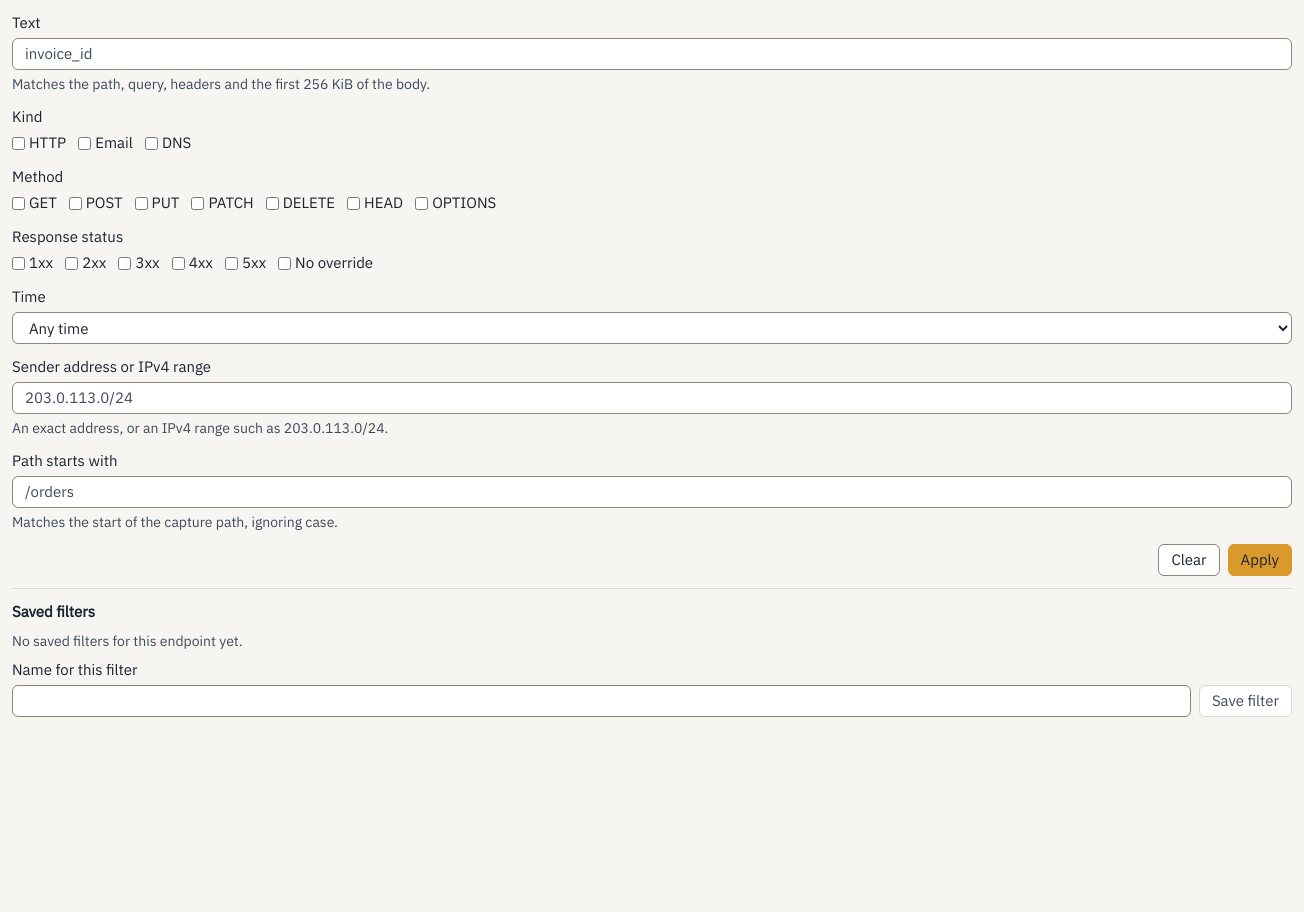
Test: BuilderForm › saves the current filter under its name and lists it for this endpoint only
The width and height of the screenshot is (1304, 912).
Click the checkbox labelled "GET" at [18, 203], box [12,196,25,210]
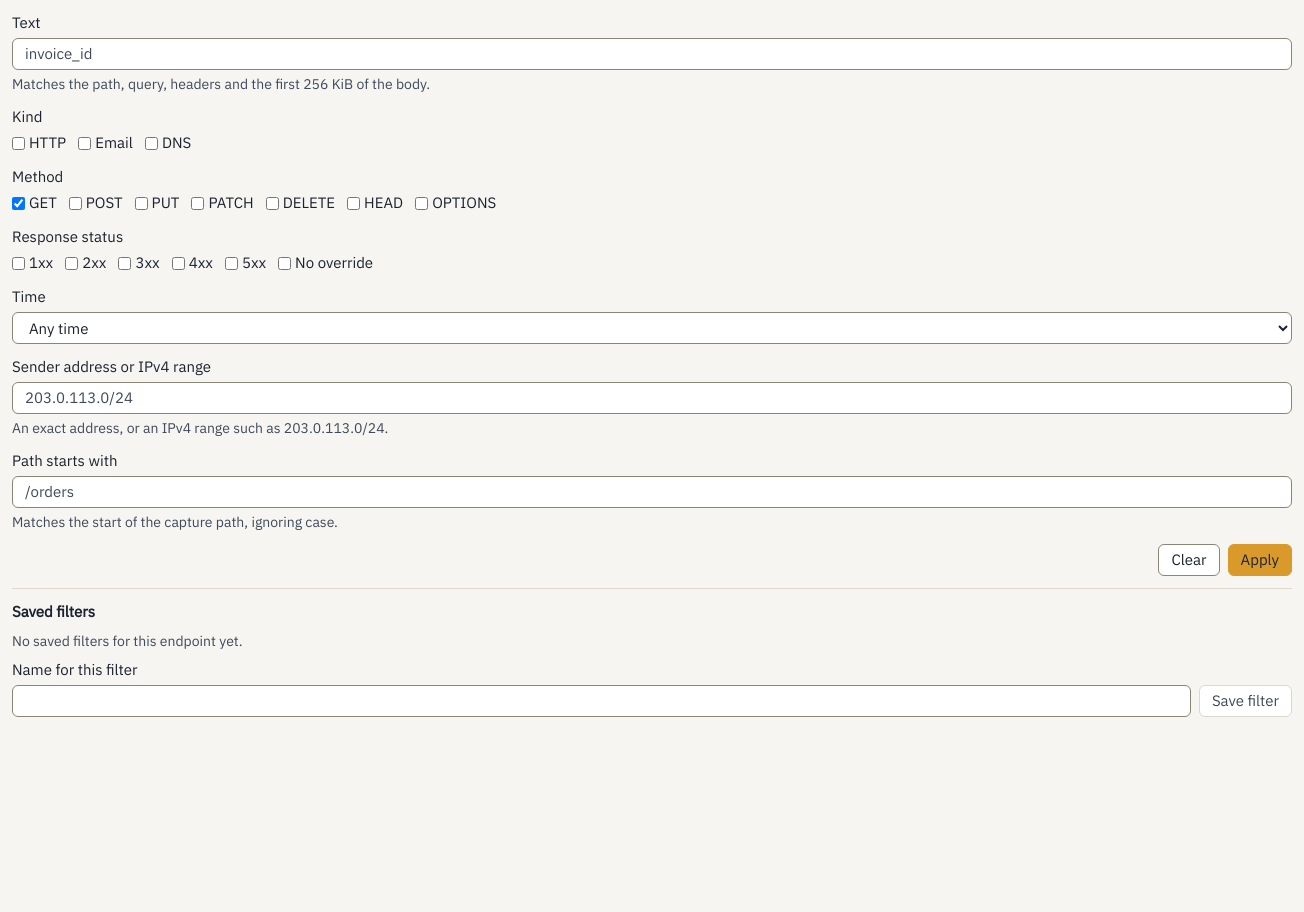
Type "Failed GETs" into the field labelled "Name for this filter" at [601, 701], box [12,685,1191,717]
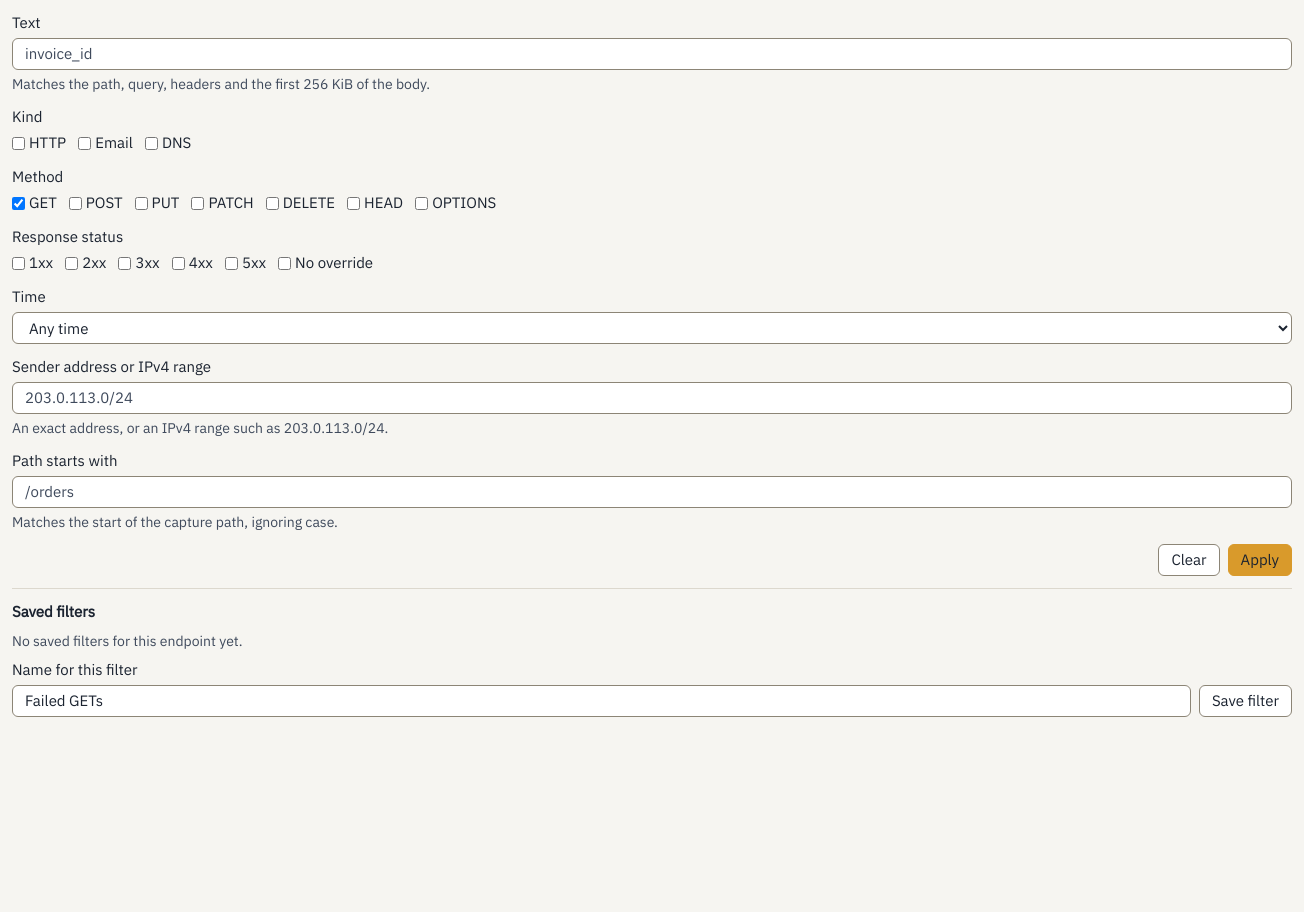
Click the button "Save filter" at [1245, 701], box [1199,685,1292,717]
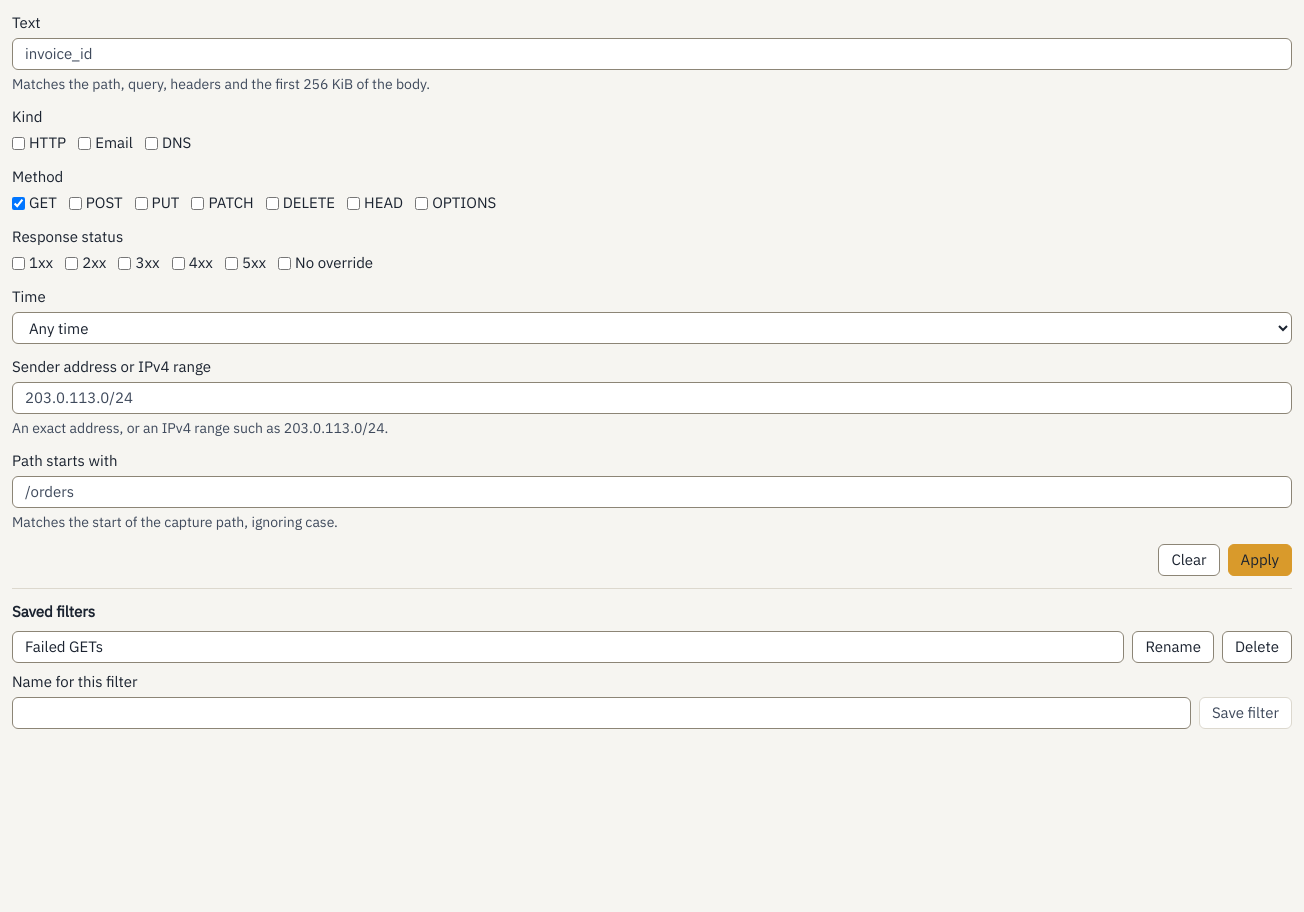
Expected: the button with aria-label "Apply Failed GETs" is shown, [12,631,1124,663]
